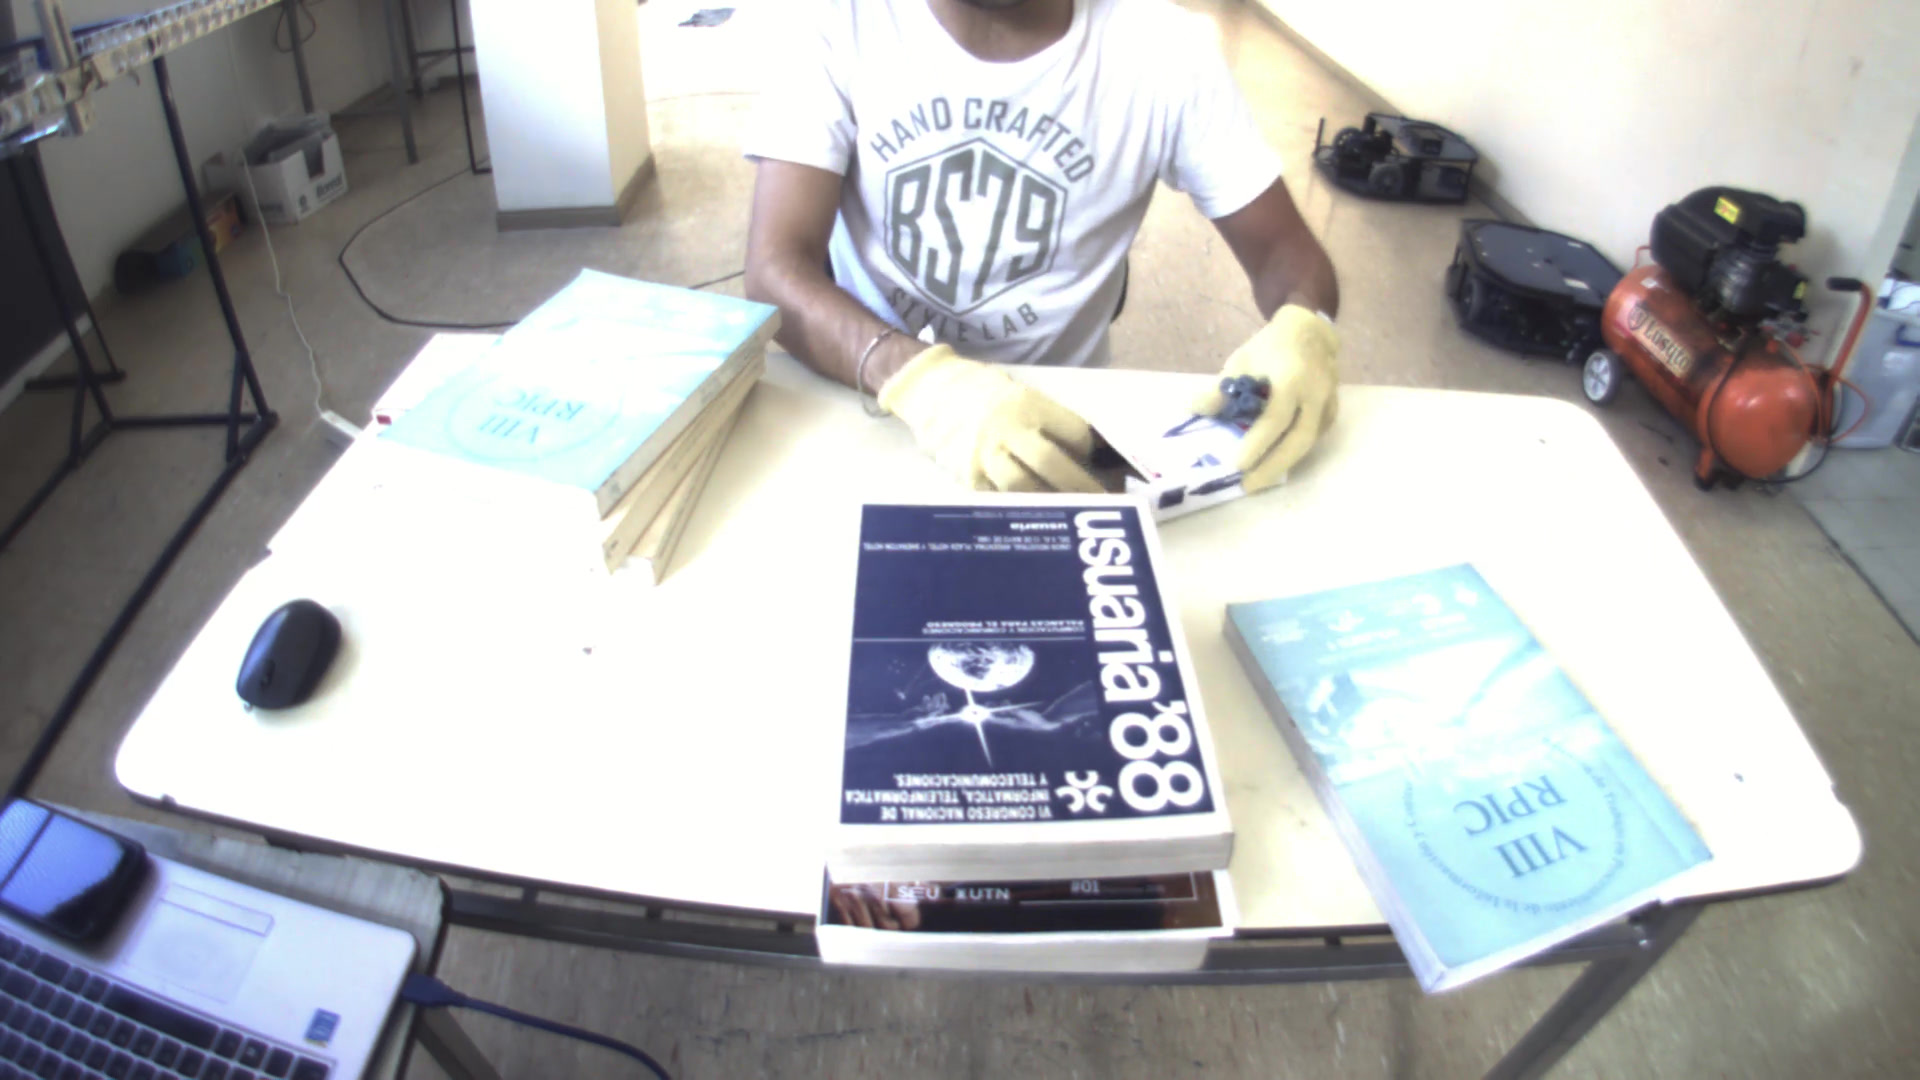hand: (870, 334, 1118, 502), (1209, 295, 1364, 500)
